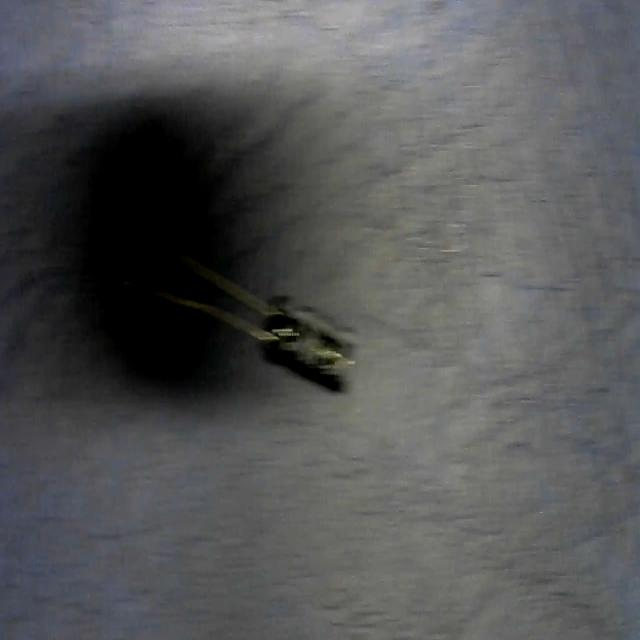capacitor: (164, 244, 354, 394)
